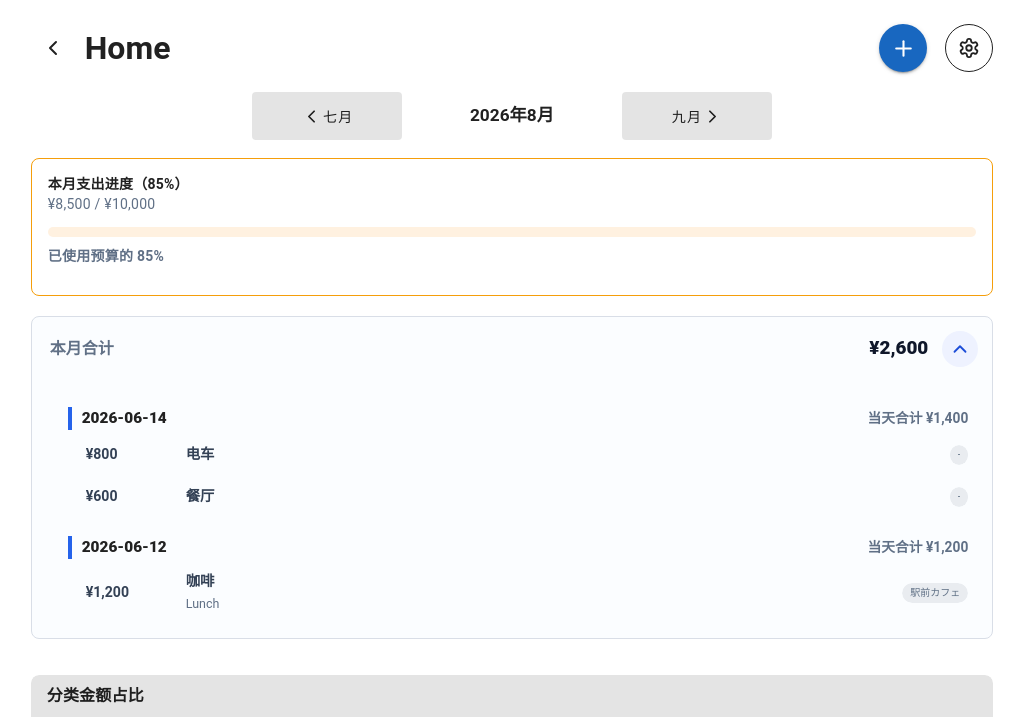
Scenario: LedgerDetail › hides ledger chrome and transaction history while recording a transaction
What coordinates should you click on to do the following:
click the button with class "record-button"
I would click on:
 (903, 48)
Its box is [879,24,927,72].
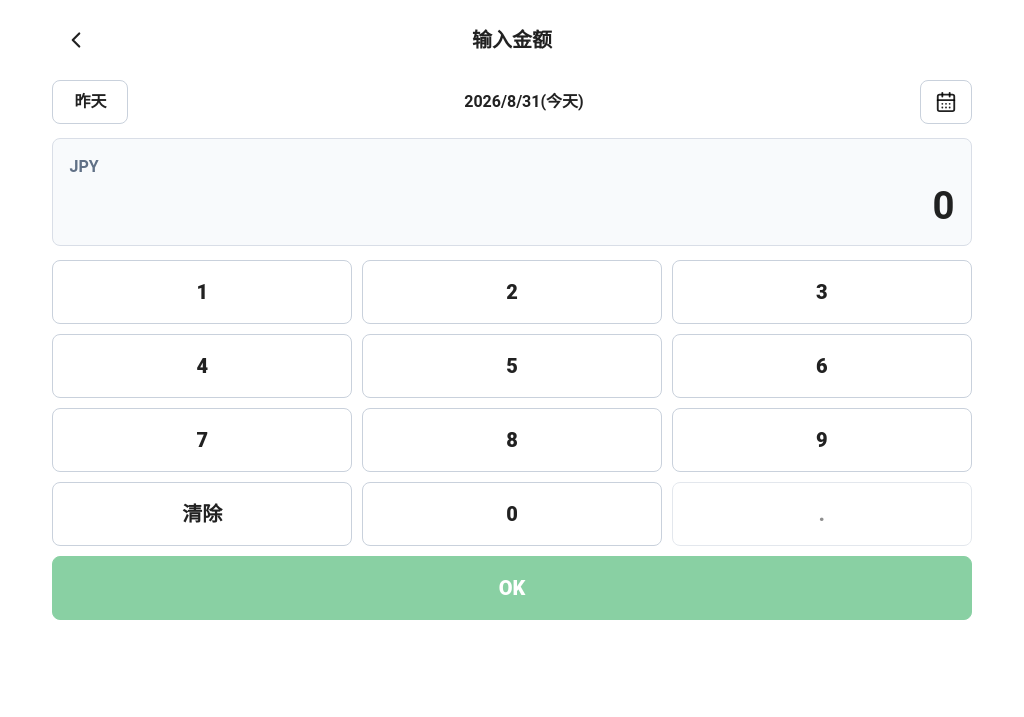
Result: the element with class "keypad" is shown at [52,260,972,620]
Result: the text "设置" is gone
Result: the text "Lunch" is gone
